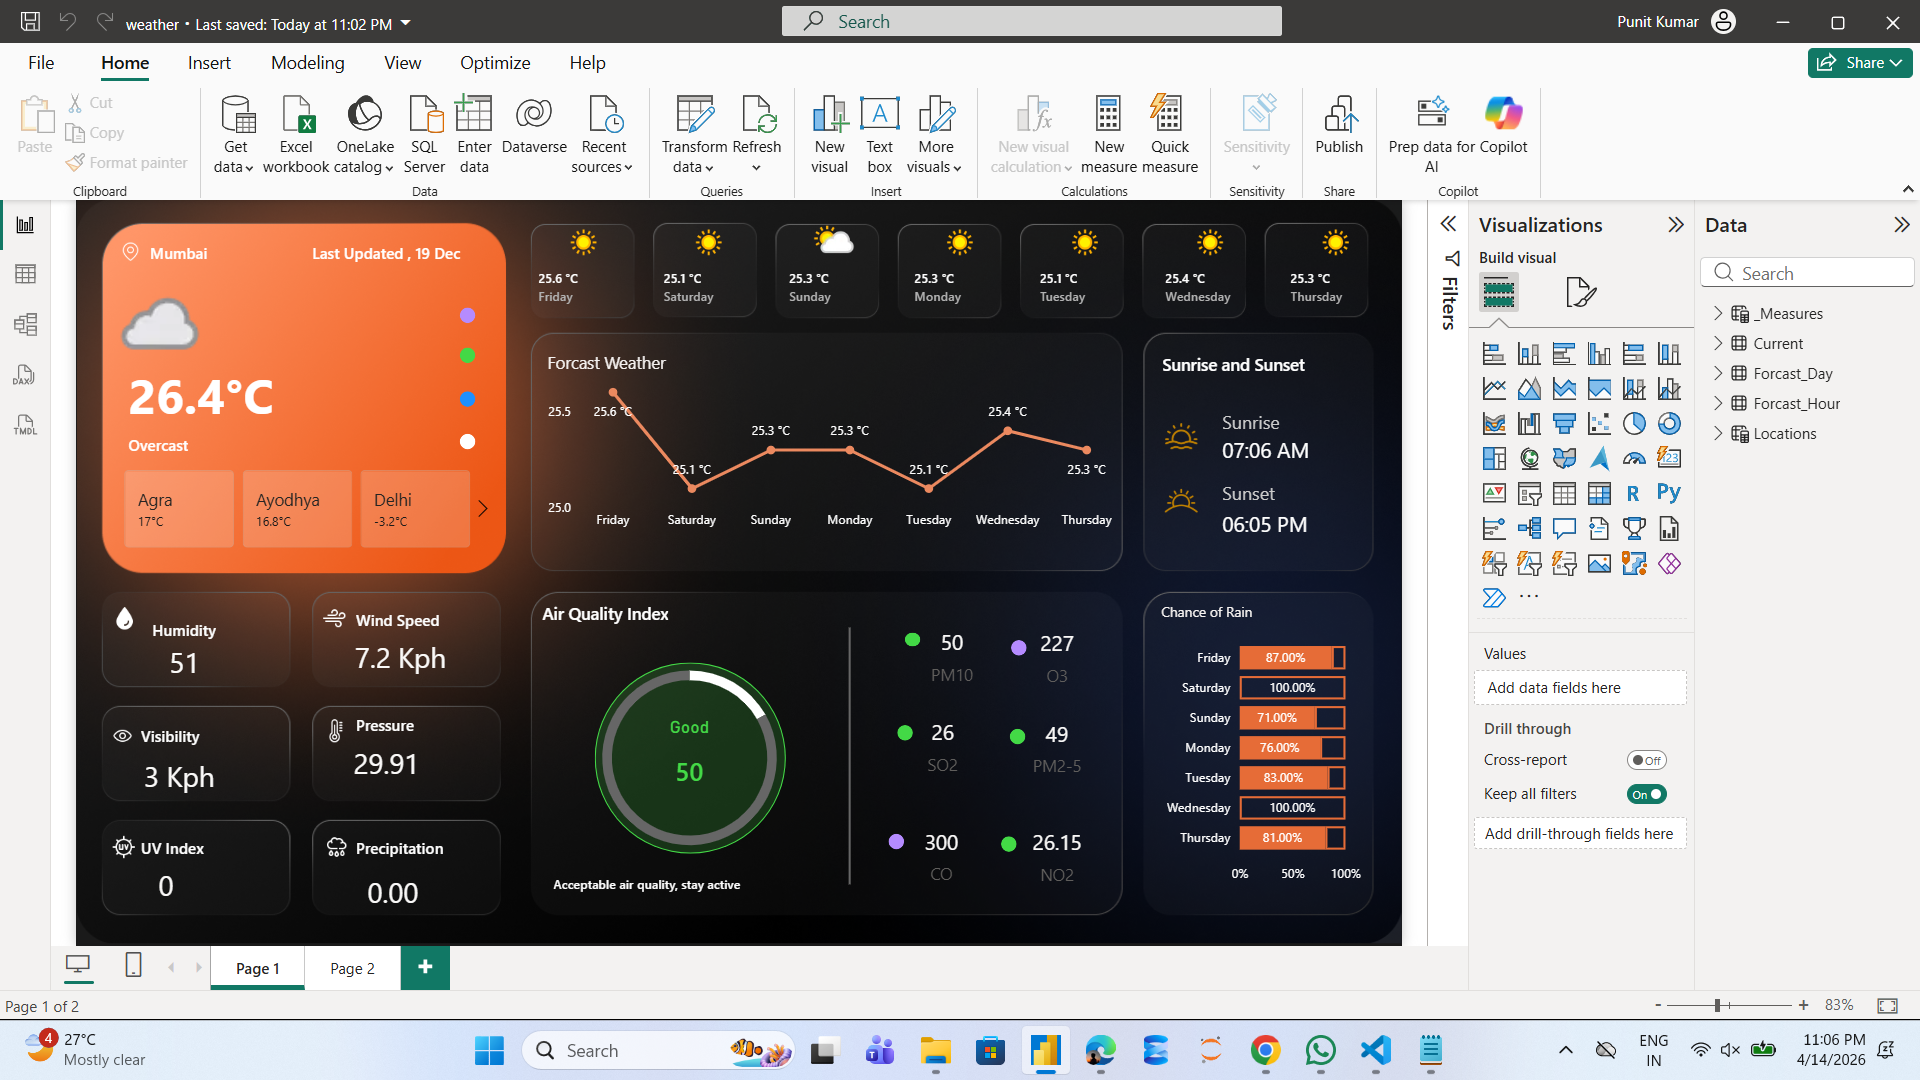

This screenshot's page, from the dashboard's own definition file:
{"tool":"powerbi","page":{"name":"Page 1","canvas":[1280,720],"ordinal":0},"visuals":[{"type":"shape","box":[500.3,445.9,184.4,184.4],"z":0},{"type":"donutChart","fields":{"Y":["Sum(Current.current.air_quality.pm10)","_Measures.Left_value_PM10"]},"box":[455,427.8,275.1,220.7],"z":1000},{"type":"advancedSlicerVisual","fields":{"Values":["Locations.location.name"]},"box":[22,255.2,387,85.1],"z":2000},{"type":"shape","box":[50.8,137.2,177,98.8],"z":3000},{"type":"shape","box":[50.8,204.5,282.7,64.5],"z":4000},{"type":"shape","box":[42.5,17.8,113.9,64.5],"z":5000},{"type":"shape","box":[227.8,17.8,157.8,64.5],"z":6000},{"type":"image","box":[42.5,41.2,20.6,17.8],"z":7000},{"type":"advancedSlicerVisual","fields":{"Values":["Current.current.condition.icon"]},"box":[22,82.3,118,75.5],"z":8000},{"type":"image","box":[26.1,506.3,37,20.6],"z":9000},{"type":"shape","box":[63.1,491.3,138.6,52.1],"z":10000},{"type":"image","box":[240.1,496.7,22,30.2],"z":11000},{"type":"shape","box":[270.3,480.3,138.6,52.1],"z":12000},{"type":"shape","box":[270.3,378.7,138.6,52.1],"z":13000},{"type":"shape","box":[1049,131.3,139.1,53.2],"z":14000},{"type":"shape","box":[63.1,599.7,138.6,52.1],"z":15000},{"type":"shape","box":[270.3,599.7,138.6,52.1],"z":16000},{"type":"image","box":[28.8,613.4,34.3,23.3],"z":17000},{"type":"image","box":[227.8,392.5,42.5,23.3],"z":18000},{"type":"image","box":[233.3,613.4,37,23.3],"z":19000},{"type":"image","box":[31.6,392.5,31.6,23.3],"z":20000},{"type":"card","fields":{"Values":["Sum(Current.current.humidity)"]},"box":[16.6,396,175.3,102.8],"z":21000},{"type":"card","fields":{"Values":["_Measures.Wind_Speed"]},"box":[231.3,399.1,163.3,86.2],"z":22000},{"type":"card","fields":{"Values":["Sum(Current.current.pressure_in)"]},"box":[211.6,494.3,176.9,101.3],"z":23000},{"type":"card","fields":{"Values":["_Measures.Visibility_Speed"]},"box":[12.1,506.4,175.3,101.3],"z":24000},{"type":"card","fields":{"Values":["Sum(Current.current.precip_in)"]},"box":[218.9,619.1,175.1,101.6],"z":25000},{"type":"card","fields":{"Values":["Sum(Current.current.uv)"]},"box":[0,612.2,173.8,101.3],"z":26000},{"type":"lineChart","title":"Forcast Weather","fields":{"Y":["Sum(Forcast_Day.forecast.forecastday.day.avgtemp_c)"],"Category":["Forcast_Day.Day_Name"]},"box":[450.2,145.4,561.2,181.3],"z":27000},{"type":"advancedSlicerVisual","fields":{"Values":["Forcast_Day.Day_Name"]},"box":[428.3,12.5,852,107.9],"z":28000},{"type":"shape","box":[73.1,388.7,138.6,52.1],"z":29000},{"type":"shape","box":[1106.8,212.6,139.1,56.3],"z":30000},{"type":"shape","box":[1106.8,283,139.1,56.3],"z":31000},{"type":"shape","box":[1106.8,186,139.1,56.3],"z":32000},{"type":"shape","box":[1106.8,254.8,139.1,56.3],"z":33000},{"type":"image","box":[1025.5,268.9,82.9,42.2],"z":34000},{"type":"image","box":[1042.7,212.6,48.5,31.3],"z":35000},{"type":"hundredPercentStackedBarChart","title":"Chance of Rain","fields":{"Category":["Forcast_Day.Day_Name"],"Y":["Sum(Forcast_Day.forecast.forecastday.day.daily_chance_of_rain)","_Measures.Left_value_Rain"]},"box":[1042.9,388.3,203.1,279.9],"z":36000},{"type":"shape","box":[450.5,371.8,139.1,52.9],"z":37000},{"type":"card","fields":{"Values":["Sum(Current.current.air_quality.pm10)"]},"box":[781.8,403,127.9,73.6],"z":38000},{"type":"card","fields":{"Values":["Sum(Current.current.air_quality.o3)"]},"box":[883.5,402.4,128,74.6],"z":39000},{"type":"card","fields":{"Values":["Sum(Current.current.air_quality.so2)"]},"box":[772.1,489.8,129.1,73.6],"z":40000},{"type":"card","fields":{"Values":["Sum(Current.current.air_quality.pm2_5)"]},"box":[883.1,491,127.9,73.6],"z":41000},{"type":"card","fields":{"Values":["Sum(Current.current.air_quality.co)"]},"box":[770.9,594.8,129.1,74.8],"z":42000},{"type":"card","fields":{"Values":["Sum(Current.current.air_quality.no2)"]},"box":[883.1,596,127.9,73.6],"z":43000},{"type":"shape","box":[799.6,417.2,15.1,13.6],"z":44000},{"type":"shape","box":[784.5,612.2,15.1,15.1],"z":45000},{"type":"shape","box":[902.4,424.8,15.1,15.1],"z":46000},{"type":"shape","box":[900.9,510.9,15.1,15.1],"z":47000},{"type":"shape","box":[893.3,613.7,15.1,15.1],"z":48000},{"type":"shape","box":[792.1,506.4,15.1,15.1],"z":49000},{"type":"shape","box":[657.5,412.7,178.4,247.9],"z":50000},{"type":"card","fields":{"Values":["Sum(Current.current.air_quality.pm10)"]},"box":[527.5,498.8,130,87.7],"z":51000},{"type":"shape","box":[461,633.4,250.9,52.9],"z":52000},{"type":"shape","box":[370.3,104.3,15.1,15.1],"z":53000},{"type":"shape","box":[370.3,142.1,15.1,15.1],"z":54000},{"type":"shape","box":[370.3,184.4,15.1,15.1],"z":55000},{"type":"shape","box":[370.3,225.2,15.1,15.1],"z":56000}]}

Visuals, with their boxes on the page's 1280x720 design canvas (x1, y1, x2, y2). These are canvas units, not pixel positions in the 1920x1080 screenshot, which may show the page scaled, cropped or inside an application window:
shape: <bbox>500, 446, 685, 630</bbox>
donutChart - Sum(Current.current.air_quality.pm10) x _Measures.Left_value_PM10: <bbox>455, 428, 730, 648</bbox>
advancedSlicerVisual - Locations.location.name: <bbox>22, 255, 409, 340</bbox>
shape: <bbox>51, 137, 228, 236</bbox>
shape: <bbox>51, 204, 334, 269</bbox>
shape: <bbox>42, 18, 156, 82</bbox>
shape: <bbox>228, 18, 386, 82</bbox>
image: <bbox>42, 41, 63, 59</bbox>
advancedSlicerVisual - Current.current.condition.icon: <bbox>22, 82, 140, 158</bbox>
image: <bbox>26, 506, 63, 527</bbox>
shape: <bbox>63, 491, 202, 543</bbox>
image: <bbox>240, 497, 262, 527</bbox>
shape: <bbox>270, 480, 409, 532</bbox>
shape: <bbox>270, 379, 409, 431</bbox>
shape: <bbox>1049, 131, 1188, 184</bbox>
shape: <bbox>63, 600, 202, 652</bbox>
shape: <bbox>270, 600, 409, 652</bbox>
image: <bbox>29, 613, 63, 637</bbox>
image: <bbox>228, 392, 270, 416</bbox>
image: <bbox>233, 613, 270, 637</bbox>
image: <bbox>32, 392, 63, 416</bbox>
card - Sum(Current.current.humidity): <bbox>17, 396, 192, 499</bbox>
card - _Measures.Wind_Speed: <bbox>231, 399, 395, 485</bbox>
card - Sum(Current.current.pressure_in): <bbox>212, 494, 388, 596</bbox>
card - _Measures.Visibility_Speed: <bbox>12, 506, 187, 608</bbox>
card - Sum(Current.current.precip_in): <bbox>219, 619, 394, 721</bbox>
card - Sum(Current.current.uv): <bbox>0, 612, 174, 714</bbox>
"Forcast Weather" lineChart: <bbox>450, 145, 1011, 327</bbox>
advancedSlicerVisual - Forcast_Day.Day_Name: <bbox>428, 12, 1280, 120</bbox>
shape: <bbox>73, 389, 212, 441</bbox>
shape: <bbox>1107, 213, 1246, 269</bbox>
shape: <bbox>1107, 283, 1246, 339</bbox>
shape: <bbox>1107, 186, 1246, 242</bbox>
shape: <bbox>1107, 255, 1246, 311</bbox>
image: <bbox>1026, 269, 1108, 311</bbox>
image: <bbox>1043, 213, 1091, 244</bbox>
"Chance of Rain" hundredPercentStackedBarChart: <bbox>1043, 388, 1246, 668</bbox>
shape: <bbox>450, 372, 590, 425</bbox>
card - Sum(Current.current.air_quality.pm10): <bbox>782, 403, 910, 477</bbox>
card - Sum(Current.current.air_quality.o3): <bbox>884, 402, 1012, 477</bbox>
card - Sum(Current.current.air_quality.so2): <bbox>772, 490, 901, 563</bbox>
card - Sum(Current.current.air_quality.pm2_5): <bbox>883, 491, 1011, 565</bbox>
card - Sum(Current.current.air_quality.co): <bbox>771, 595, 900, 670</bbox>
card - Sum(Current.current.air_quality.no2): <bbox>883, 596, 1011, 670</bbox>
shape: <bbox>800, 417, 815, 431</bbox>
shape: <bbox>784, 612, 800, 627</bbox>
shape: <bbox>902, 425, 918, 440</bbox>
shape: <bbox>901, 511, 916, 526</bbox>
shape: <bbox>893, 614, 908, 629</bbox>
shape: <bbox>792, 506, 807, 522</bbox>
shape: <bbox>658, 413, 836, 661</bbox>
card - Sum(Current.current.air_quality.pm10): <bbox>528, 499, 658, 586</bbox>
shape: <bbox>461, 633, 712, 686</bbox>
shape: <bbox>370, 104, 385, 119</bbox>
shape: <bbox>370, 142, 385, 157</bbox>
shape: <bbox>370, 184, 385, 200</bbox>
shape: <bbox>370, 225, 385, 240</bbox>
